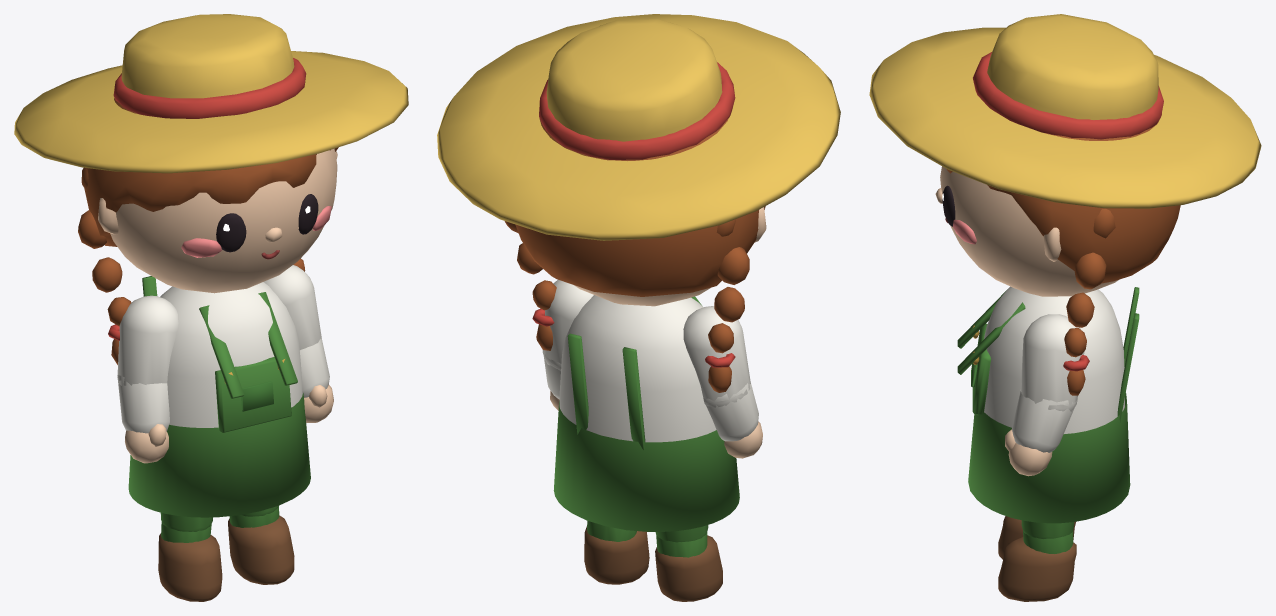
The model's file is farmer.glb.
The picture shows the model from 3 angles, left to right: view 1: azimuth 30°, elevation 25°; view 2: azimuth 150°, elevation 25°; view 3: azimuth 270°, elevation 25°; orthographic projection. The views are drawn at different scales.
Visible parts, largest first — view 1: head_body, spine_body, uarm_R, knee_R_body, knee_L_body, uarm_L, farm_R, head_face_normal+face_smile, hand_R_body, farm_L, hand_L_body, thigh_R; view 2: head_body, spine_body, knee_R_body, uarm_R, knee_L_body, farm_R, uarm_L, hand_R_body, thigh_R; view 3: head_body, spine_body, knee_L_body, uarm_L, farm_L, hand_L_body, thigh_L, knee_R_body.
Boxes of the visible parts, x1=… form: head_body: x1=14, y1=14, x2=408, y2=364; spine_body: x1=128, y1=276, x2=310, y2=517; uarm_R: x1=117, y1=295, x2=178, y2=385; knee_R_body: x1=158, y1=522, x2=222, y2=601; knee_L_body: x1=228, y1=506, x2=294, y2=584; uarm_L: x1=264, y1=265, x2=321, y2=350; farm_R: x1=117, y1=375, x2=169, y2=433; head_face_normal+face_smile: x1=216, y1=194, x2=318, y2=252; hand_R_body: x1=125, y1=424, x2=168, y2=463; farm_L: x1=300, y1=338, x2=329, y2=397; hand_L_body: x1=304, y1=385, x2=333, y2=422; thigh_R: x1=160, y1=512, x2=212, y2=531; head_body: x1=437, y1=14, x2=840, y2=392; spine_body: x1=553, y1=295, x2=739, y2=531; knee_R_body: x1=655, y1=532, x2=722, y2=601; uarm_R: x1=683, y1=306, x2=750, y2=407; knee_L_body: x1=584, y1=521, x2=649, y2=584; farm_R: x1=703, y1=382, x2=758, y2=441; uarm_L: x1=542, y1=279, x2=593, y2=370; hand_R_body: x1=724, y1=421, x2=762, y2=458; thigh_R: x1=655, y1=525, x2=708, y2=542; head_body: x1=869, y1=14, x2=1261, y2=395; spine_body: x1=957, y1=286, x2=1139, y2=523; knee_L_body: x1=998, y1=530, x2=1076, y2=601; uarm_L: x1=1020, y1=314, x2=1084, y2=411; farm_L: x1=1012, y1=391, x2=1077, y2=452; hand_L_body: x1=1005, y1=429, x2=1052, y2=476; thigh_L: x1=1021, y1=520, x2=1074, y2=538; knee_R_body: x1=998, y1=516, x2=1075, y2=559.
Size of what is drawn, in the model's own units: 0.9618 by 1.45 by 0.9482.
